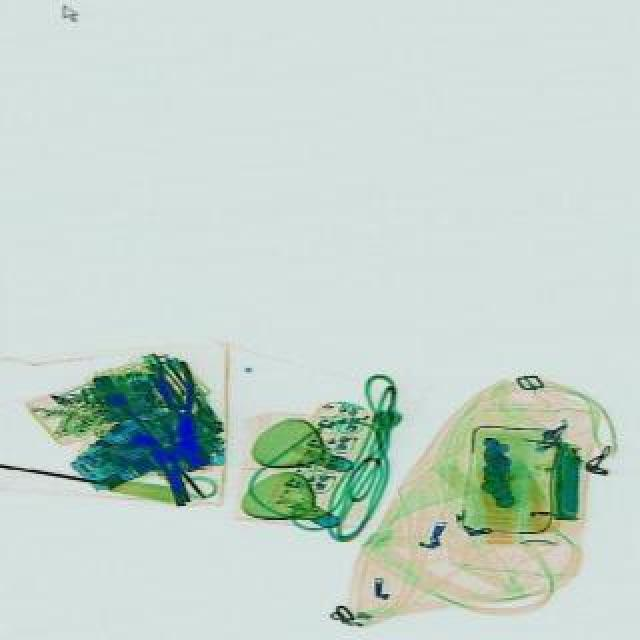wrench: (148, 358, 208, 450)
